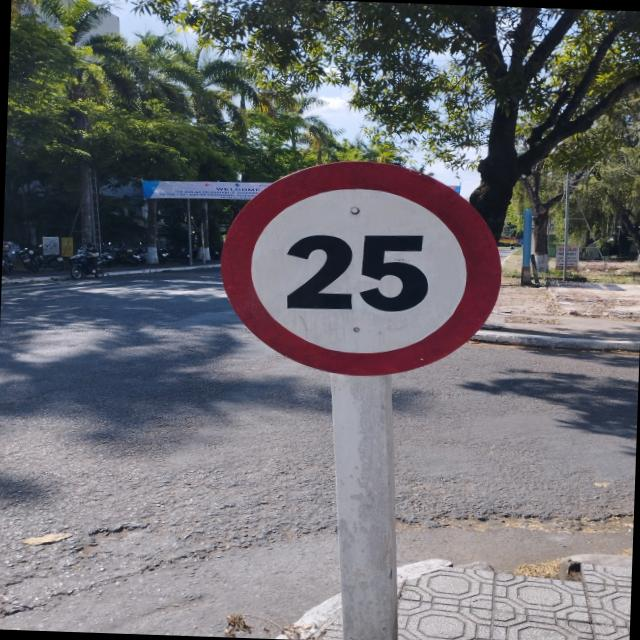Tre_Em: (216, 154, 506, 382)
